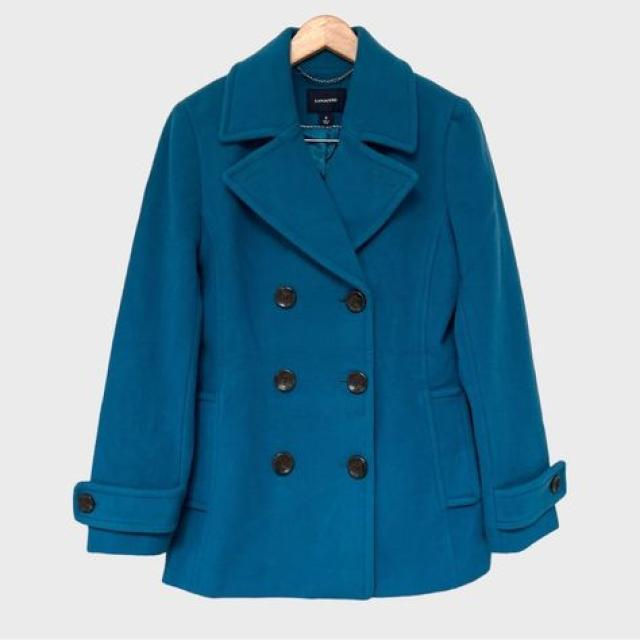coat: (70, 24, 570, 606)
